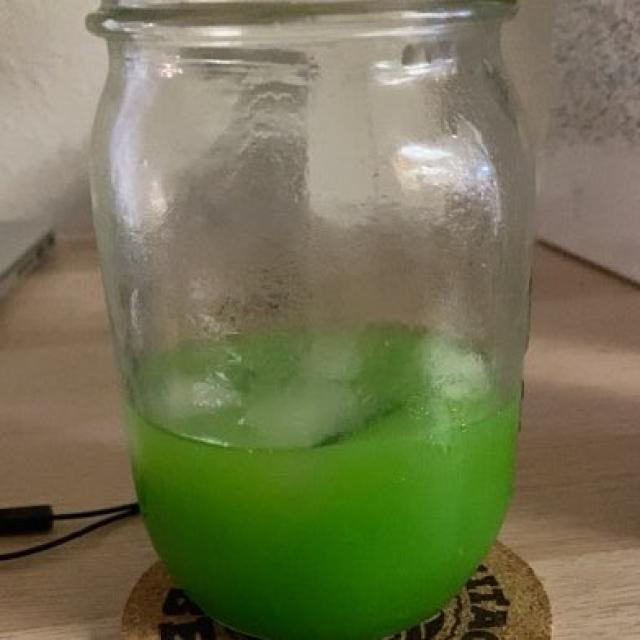cocktail: (127, 288, 511, 626)
